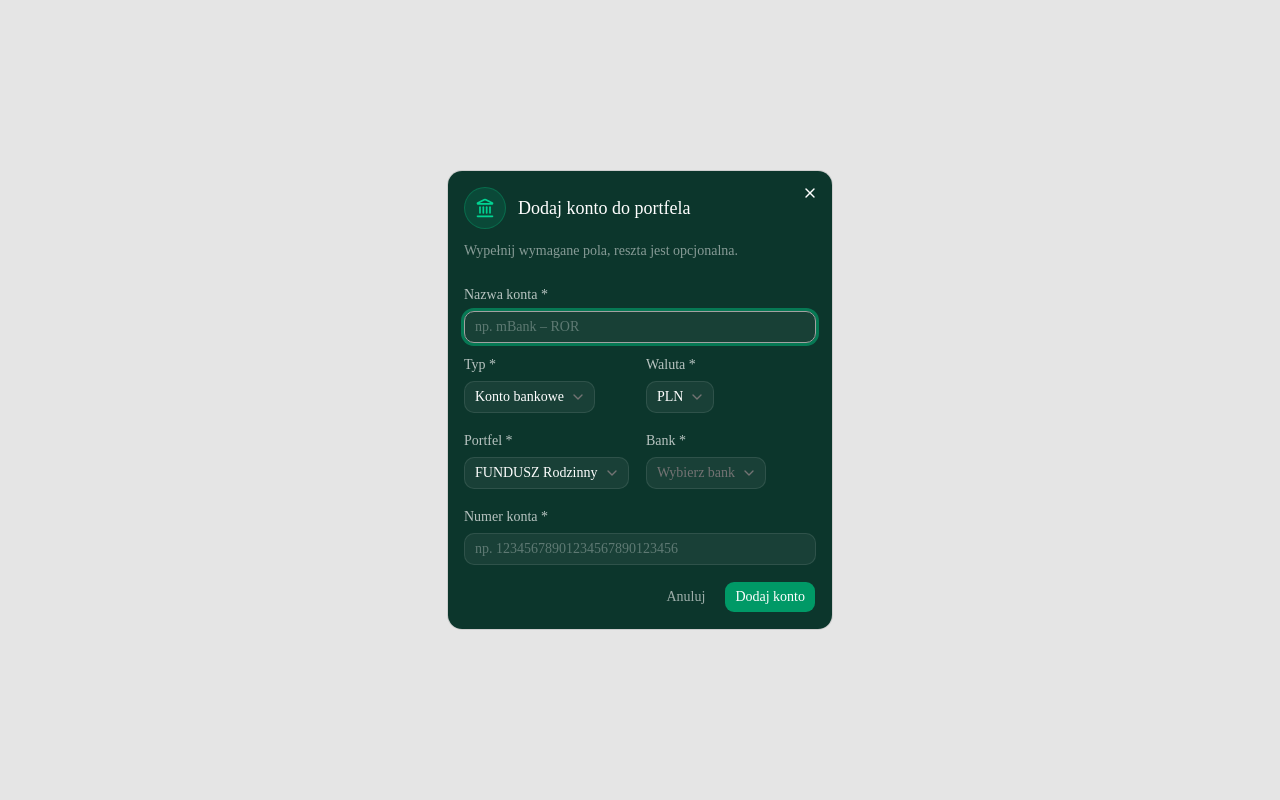
CreateAccountDialog › validates required fields before sending an account create request
Click the button "Dodaj konto": (770, 597) x1=724 y1=581 x2=816 y2=613
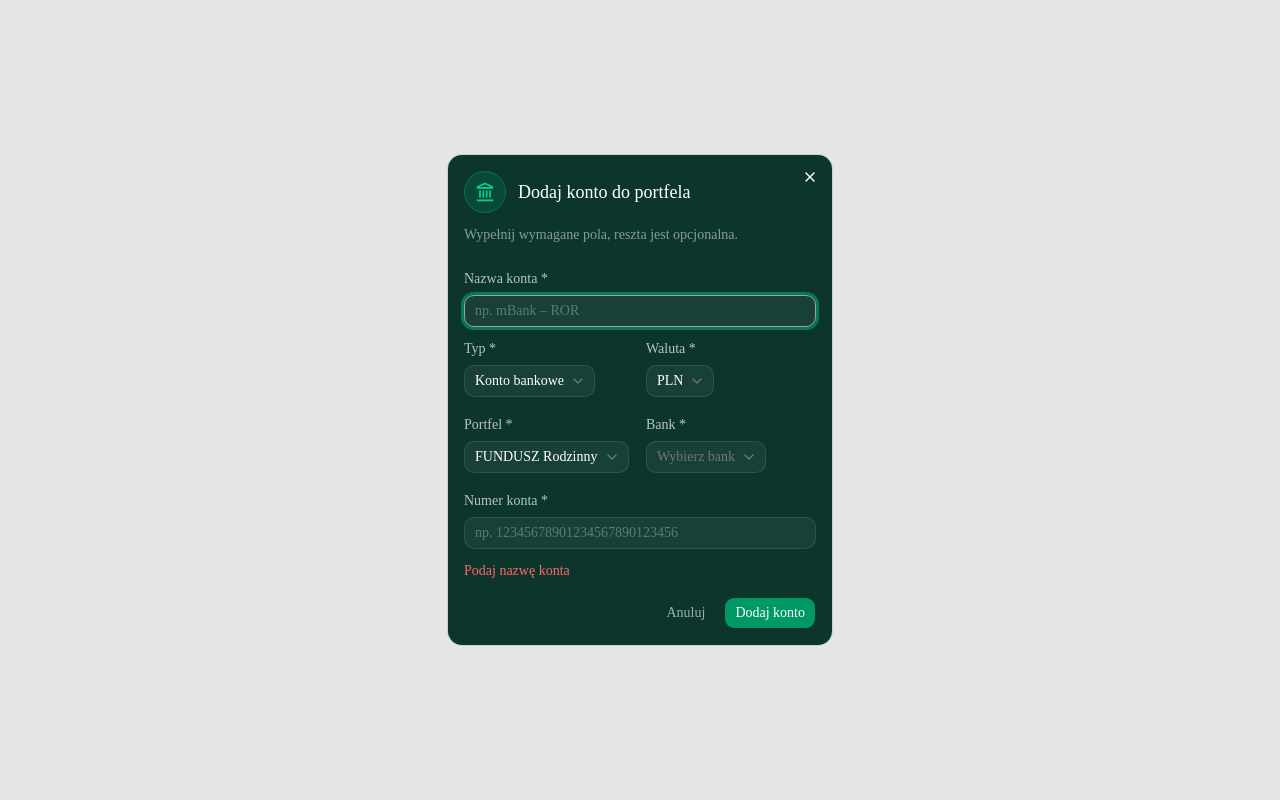
Expected: the text "Podaj nazwę konta" is shown, x1=464 y1=563 x2=570 y2=578
In the field labelled "Nazwa konta *": (640, 311) x1=464 y1=295 x2=816 y2=327, type "Makler BOSSA"
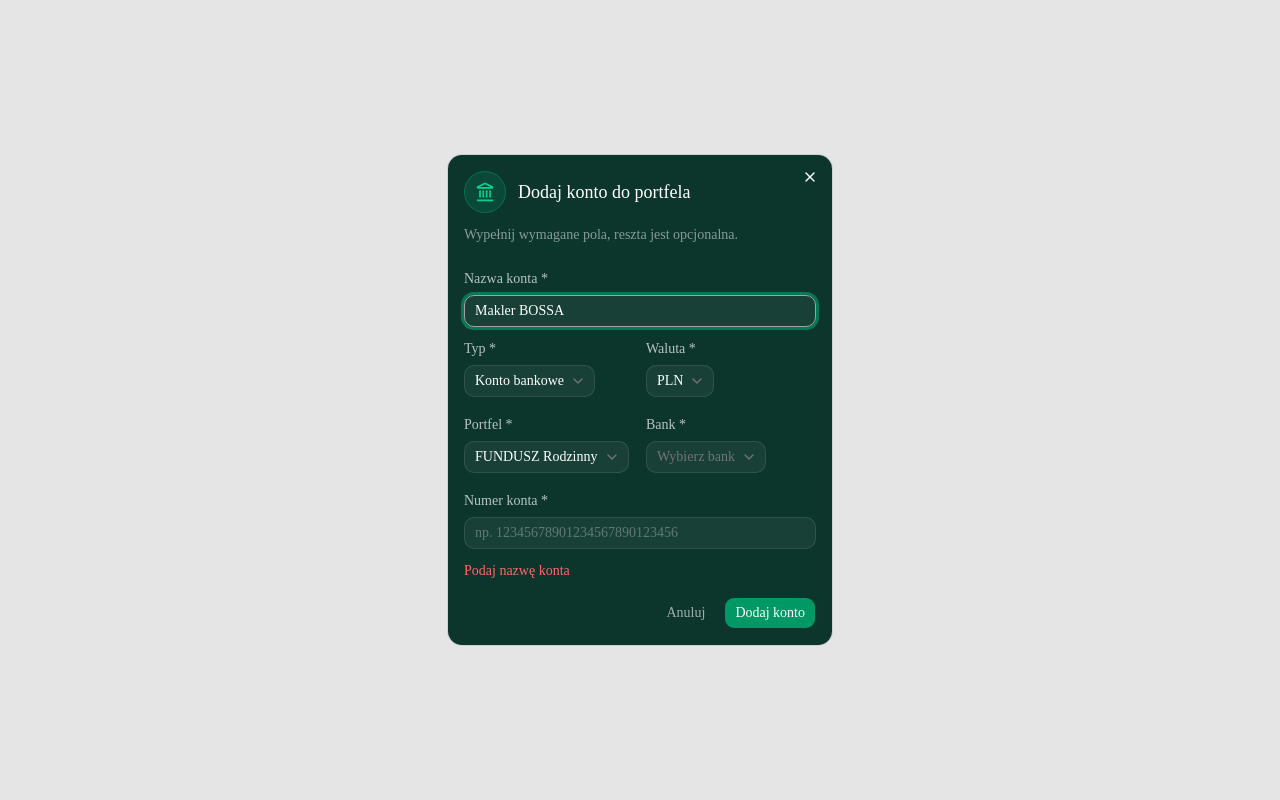
Click the button "Dodaj konto": (770, 613) x1=724 y1=597 x2=816 y2=629
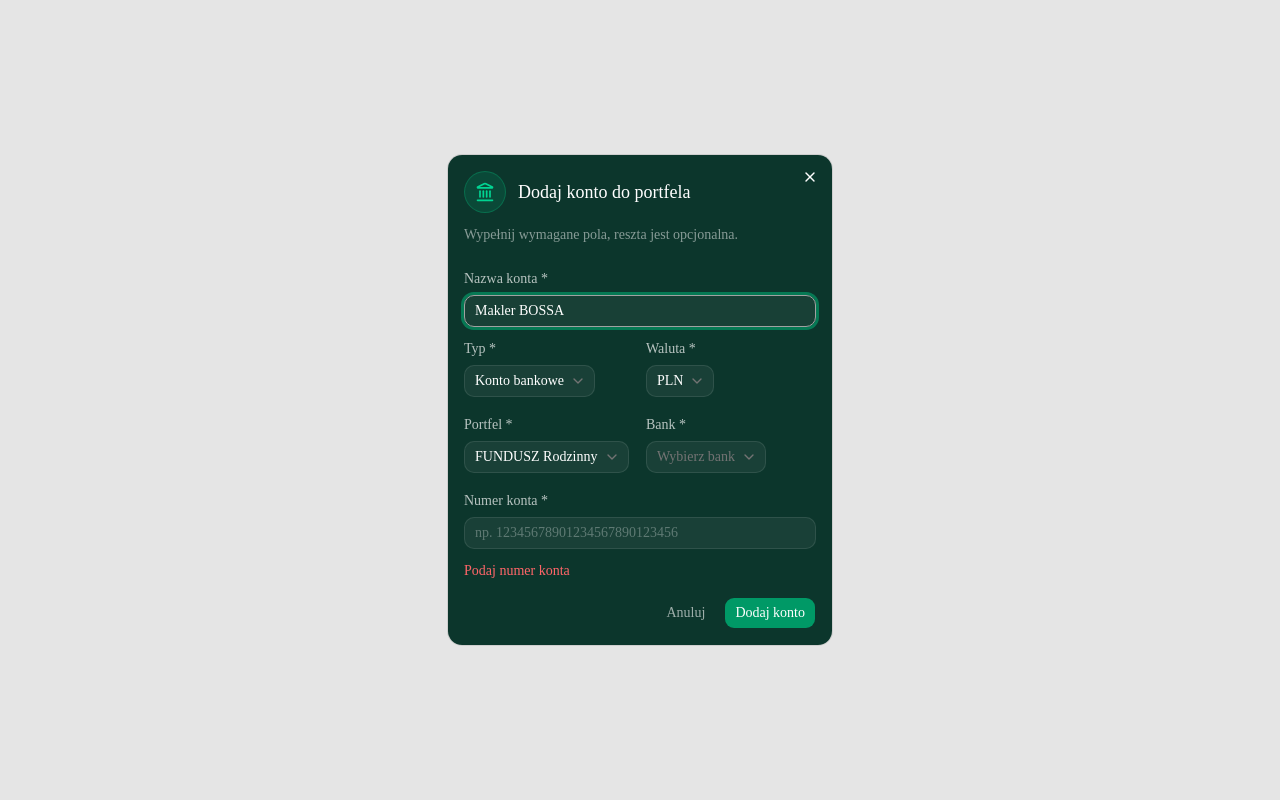
Expected: the text "Podaj numer konta" is shown, x1=464 y1=563 x2=570 y2=578
